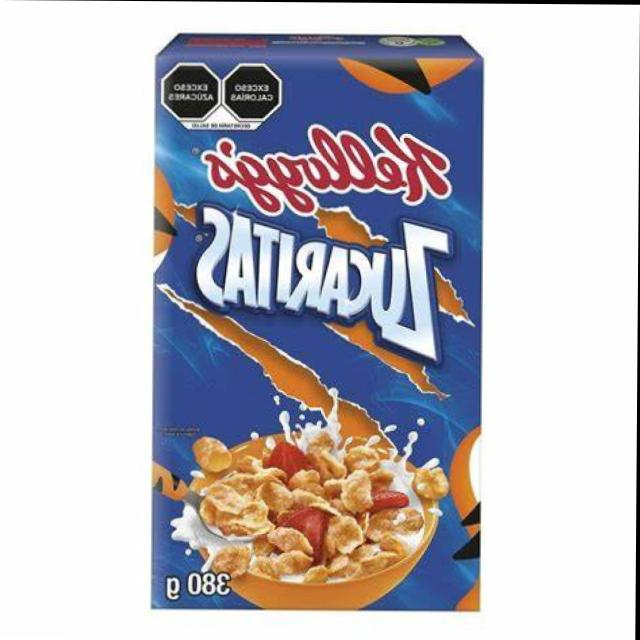Caja: (130, 18, 516, 624)
